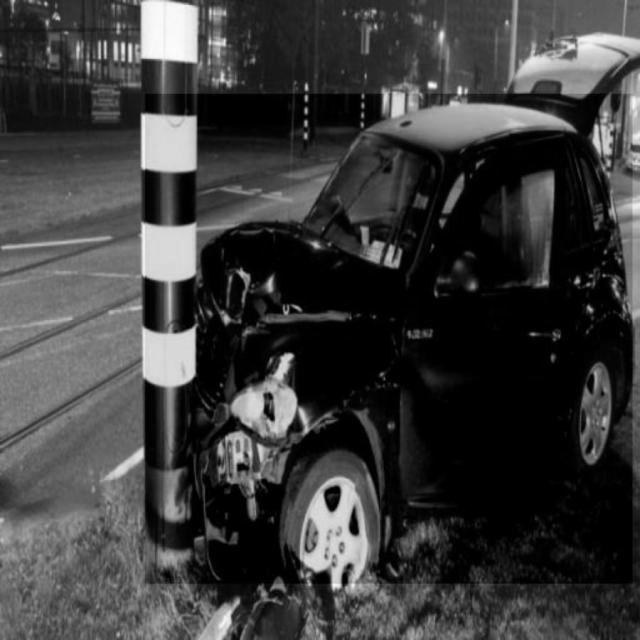accident: (146, 94, 633, 584)
